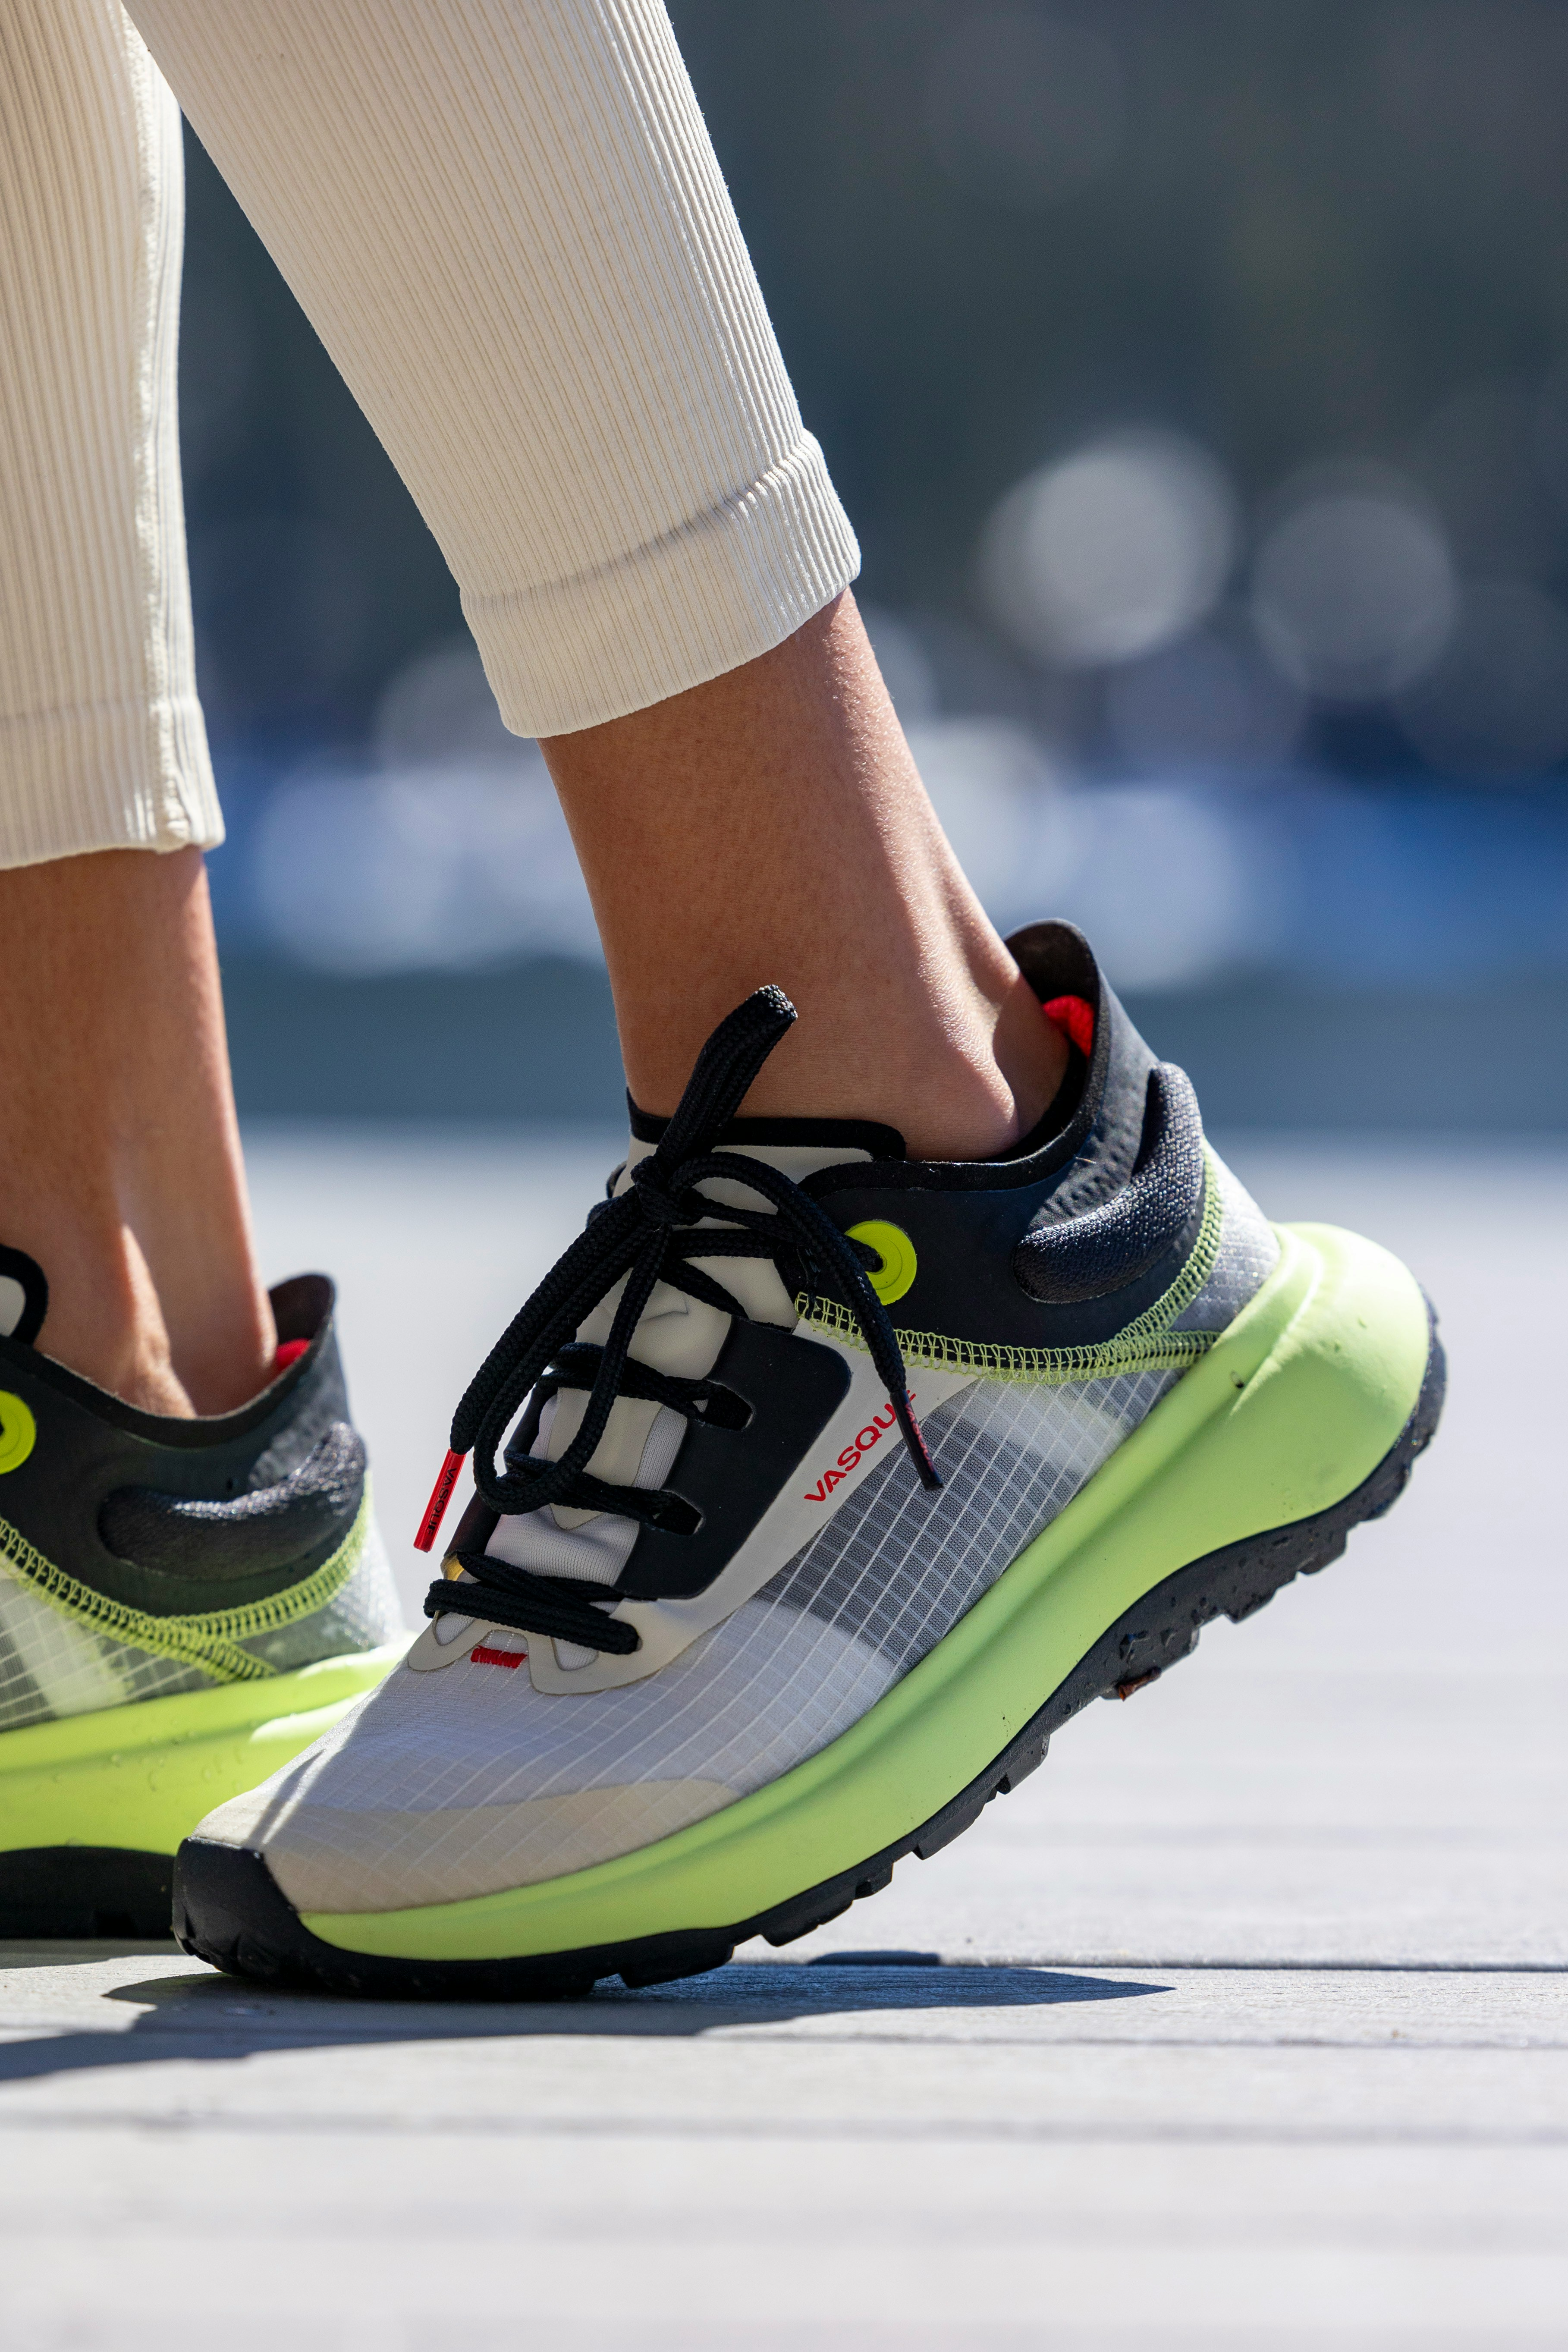Footwear: (168, 948, 1479, 1998)
